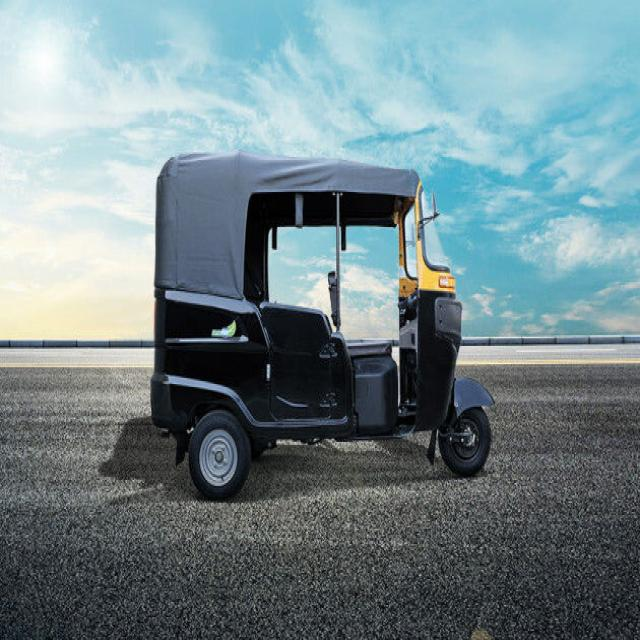autorickshaw: (153, 152, 491, 499)
